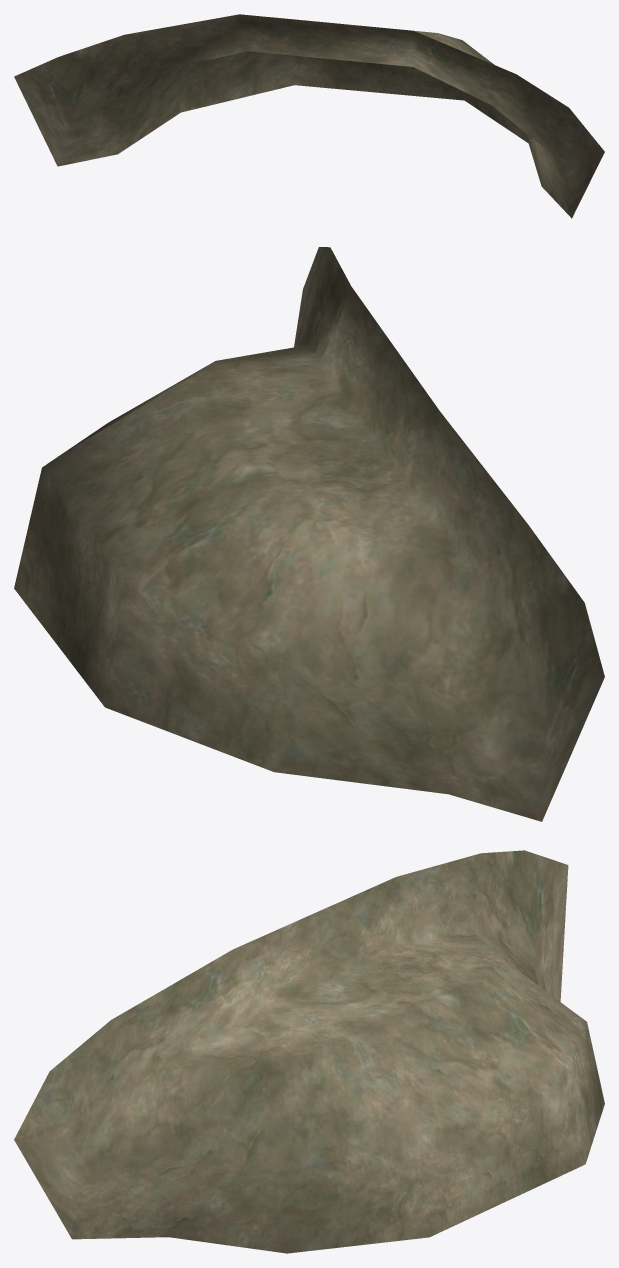
Rendered from EKH_GROTTO_PS_GR_LINE39.fbx.
3 renders of one model, top to bottom at view 1: azimuth 30°, elevation 25°; view 2: azimuth 150°, elevation 25°; view 3: azimuth 270°, elevation 25°, orthographic. The views are drawn at different scales.
Parts seen in each view (by area): view 1: EKH_GROTTO_PS_GR_LINE39; view 2: EKH_GROTTO_PS_GR_LINE39; view 3: EKH_GROTTO_PS_GR_LINE39.
Boxes of the visible parts, <box> form: EKH_GROTTO_PS_GR_LINE39: <box>14,14,604,218</box>; EKH_GROTTO_PS_GR_LINE39: <box>14,247,604,821</box>; EKH_GROTTO_PS_GR_LINE39: <box>14,850,604,1253</box>.
Bounding box in the file's own units: 35234 × 13818 × 32847.
1 material, 1 textured.
